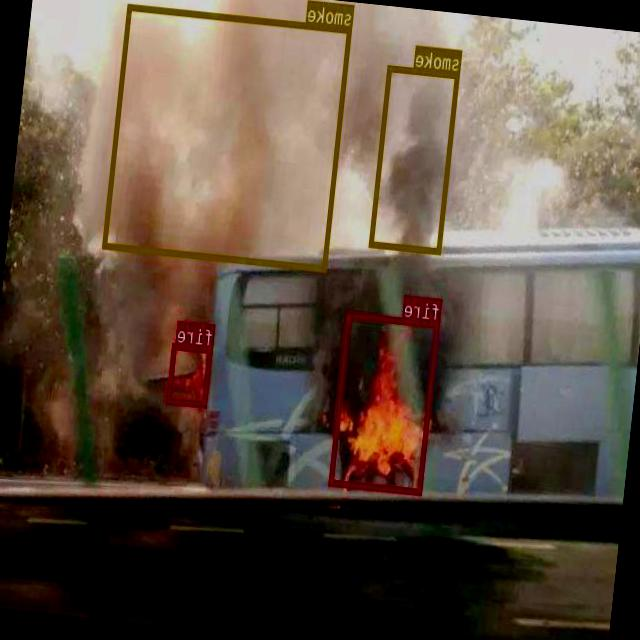fire: (329, 311, 440, 494), (167, 342, 213, 406)
smoke: (103, 3, 352, 271), (370, 64, 461, 253)
